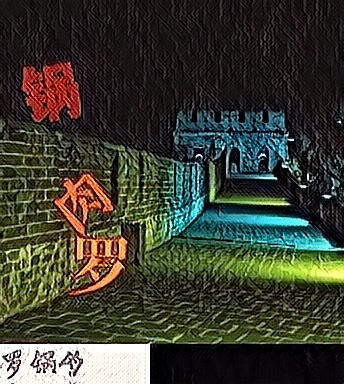B9F8: (19, 58, 83, 125)
C2DE: (67, 232, 131, 299)
C8E2: (51, 169, 115, 236)
